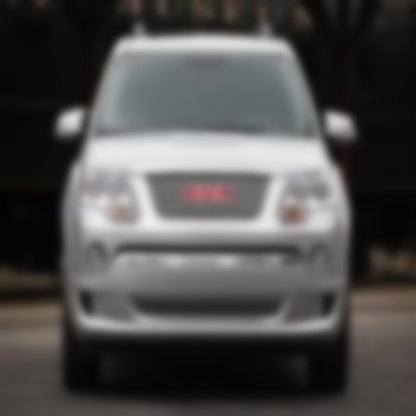Vehicle: (47, 25, 374, 407)
